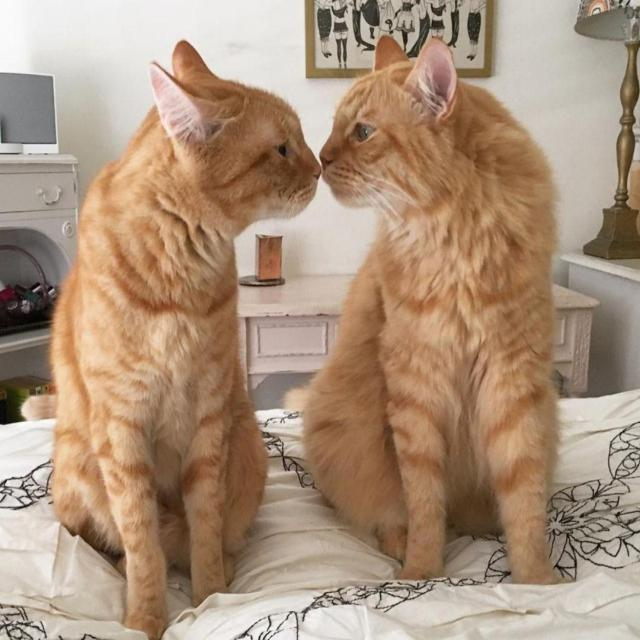Cats: (8, 35, 322, 629), (313, 23, 574, 600)
